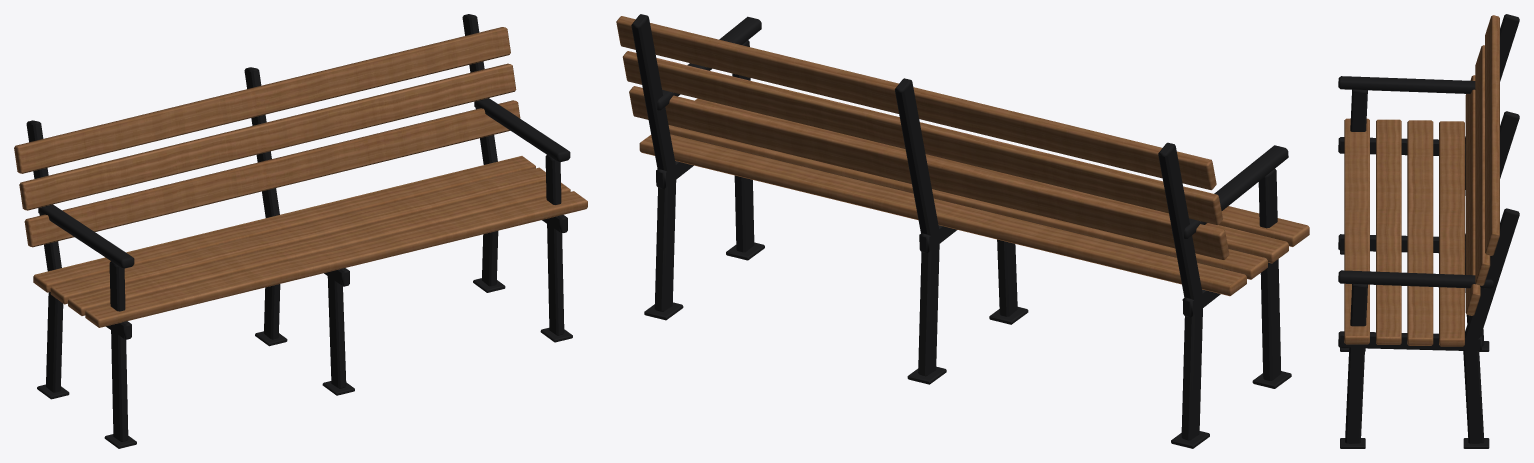
File: bench.glb
The picture shows the model from 3 angles, left to right: view 1: azimuth 30°, elevation 25°; view 2: azimuth 150°, elevation 25°; view 3: azimuth 270°, elevation 25°; orthographic projection. The views are drawn at different scales.
Visible parts, largest first — view 1: bench; view 2: bench; view 3: bench.
Part boxes in pixels (x1,y1,x2,y2): bench: (14,14,587,448); bench: (616,14,1309,448); bench: (1338,14,1519,448).
Bounding box in the file's own units: 1.8 × 0.9052 × 0.6309.
Materials: 2 (1 with a texture image).
